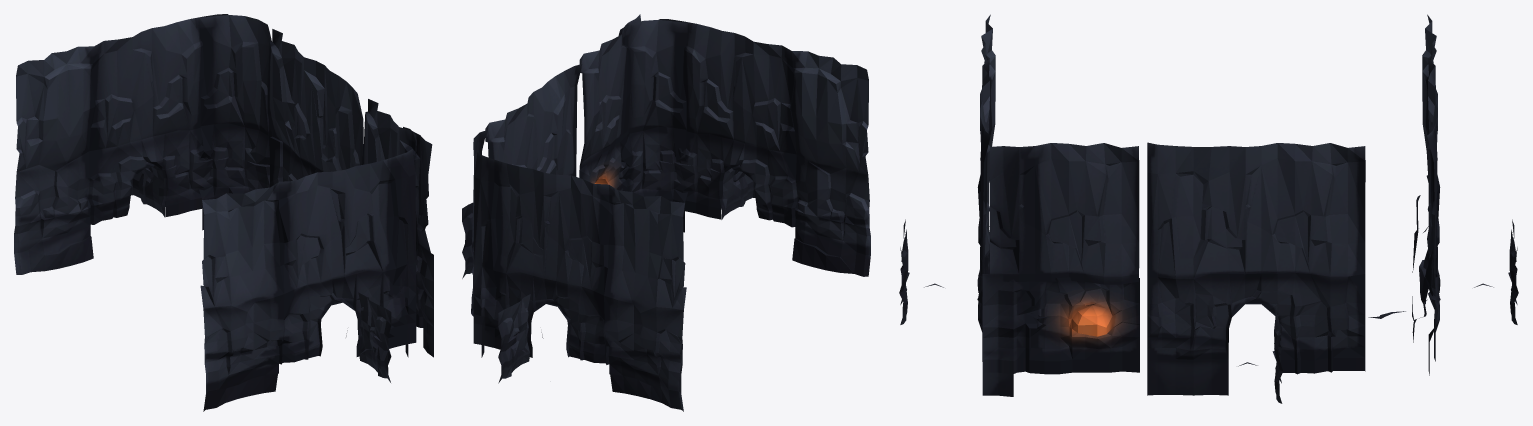
Rendered from Wall_01.FBX.
3 views of the same model, side by side, from view 1: azimuth 30°, elevation 25°; view 2: azimuth 150°, elevation 25°; view 3: azimuth 270°, elevation 25° (orthographic). The views are drawn at different scales.
Parts seen in each view (by area): view 1: Wall_01; view 2: Wall_01; view 3: Wall_01.
Boxes of the visible parts, x1,y1,x2,y2 form: Wall_01: (14, 14, 433, 411); Wall_01: (462, 14, 870, 411); Wall_01: (899, 14, 1518, 403).
Size of the model in its own units: 22.24 by 15.34 by 34.5.
